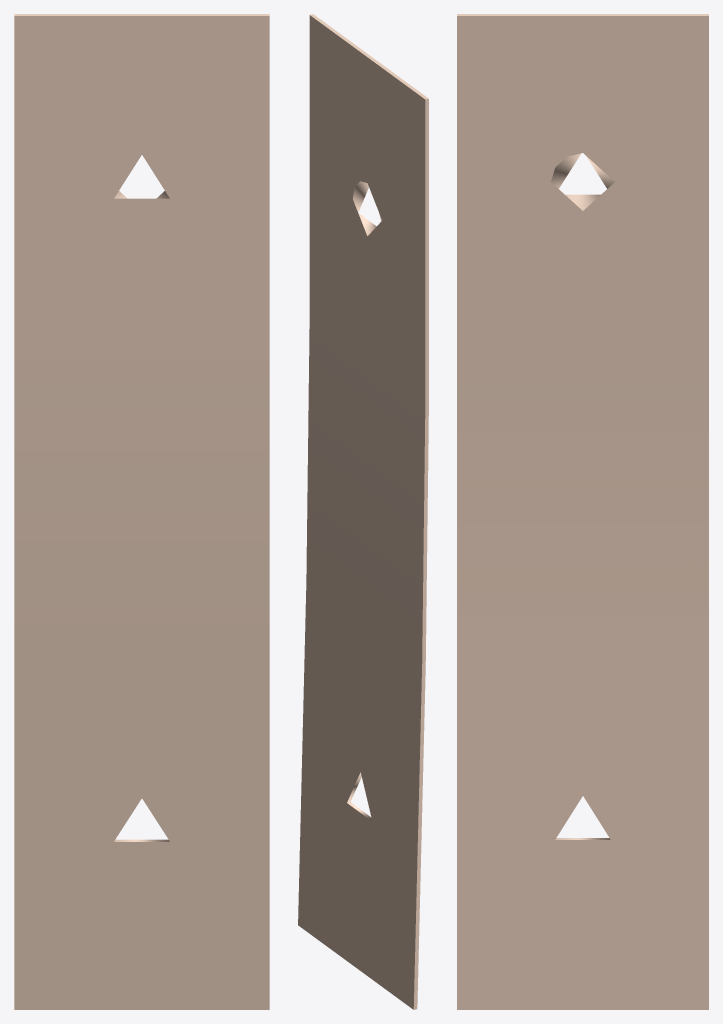
Rendered from Lame_instance_1.obj.
The picture shows the model from 3 angles, left to right: view 1: azimuth 90°, elevation 25°; view 2: azimuth 210°, elevation 25°; view 3: azimuth 270°, elevation 25°; orthographic projection. The views are drawn at different scales.
Visible parts, largest first — view 1: Face_3, Face_5, Face_4; view 2: Face_1, Face_7, Face_8, Face_9, Face_11, Face_6; view 3: Face_1, Face_7, Face_8, Face_11.
Boxes of the visible parts, left/top/right/bottom form: Face_3: left=14, top=636, right=269, bottom=1009; Face_5: left=14, top=16, right=269, bottom=352; Face_4: left=14, top=352, right=269, bottom=636; Face_1: left=298, top=580, right=421, bottom=1009; Face_7: left=309, top=15, right=425, bottom=404; Face_8: left=306, top=320, right=425, bottom=664; Face_9: left=413, top=99, right=428, bottom=1009; Face_11: left=353, top=181, right=381, bottom=235; Face_6: left=310, top=14, right=428, bottom=99; Face_1: left=457, top=632, right=708, bottom=1009; Face_7: left=457, top=16, right=708, bottom=347; Face_8: left=457, top=348, right=708, bottom=631; Face_11: left=551, top=153, right=614, bottom=210.
Bounding box in the file's own units: 0.000209 × 0.0119 × 0.00275.
